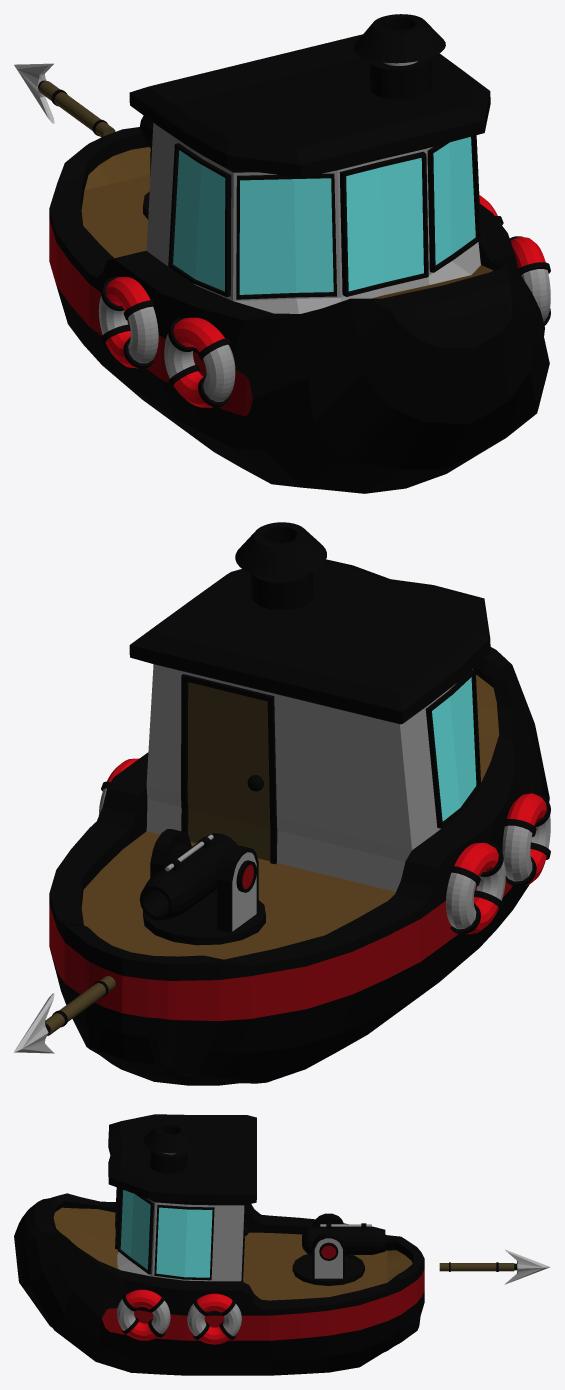
The model's file is Tugboat.fbx.
3 renders of one model, top to bottom at view 1: azimuth 30°, elevation 25°; view 2: azimuth 150°, elevation 25°; view 3: azimuth 270°, elevation 25°, orthographic. The views are drawn at different scales.
Visible parts, largest first — view 1: Tugboat, Smokestack, Life Preserver.003, Life Preserver.002, Harpoon, Life Preserver.001; view 2: Tugboat, Harpoon Gun, Smokestack, Harpoon Gun Barrel, Life Preserver.002, Life Preserver.003, Harpoon; view 3: Tugboat, Harpoon Gun, Harpoon Gun Barrel, Life Preserver, Life Preserver.001, Smokestack, Harpoon.
Boxes of the visible parts, x1,y1,x2,y2 form: Tugboat: (49, 34, 549, 493); Smokestack: (354, 14, 445, 99); Life Preserver.003: (164, 317, 235, 407); Life Preserver.002: (98, 276, 158, 368); Harpoon: (14, 63, 115, 137); Life Preserver.001: (510, 236, 550, 325); Tugboat: (49, 559, 549, 1085); Harpoon Gun: (143, 829, 265, 945); Smokestack: (235, 522, 326, 610); Harpoon Gun Barrel: (139, 833, 256, 920); Life Preserver.002: (446, 842, 505, 934); Life Preserver.003: (502, 792, 550, 886); Harpoon: (14, 976, 115, 1053); Tugboat: (14, 1114, 424, 1375); Harpoon Gun: (292, 1213, 364, 1285); Harpoon Gun Barrel: (302, 1223, 385, 1260); Life Preserver: (187, 1293, 241, 1344); Life Preserver.001: (117, 1289, 170, 1340); Smokestack: (143, 1123, 196, 1173); Harpoon: (439, 1249, 550, 1284).
Bounding box in the file's own units: 458 × 491 × 972.
